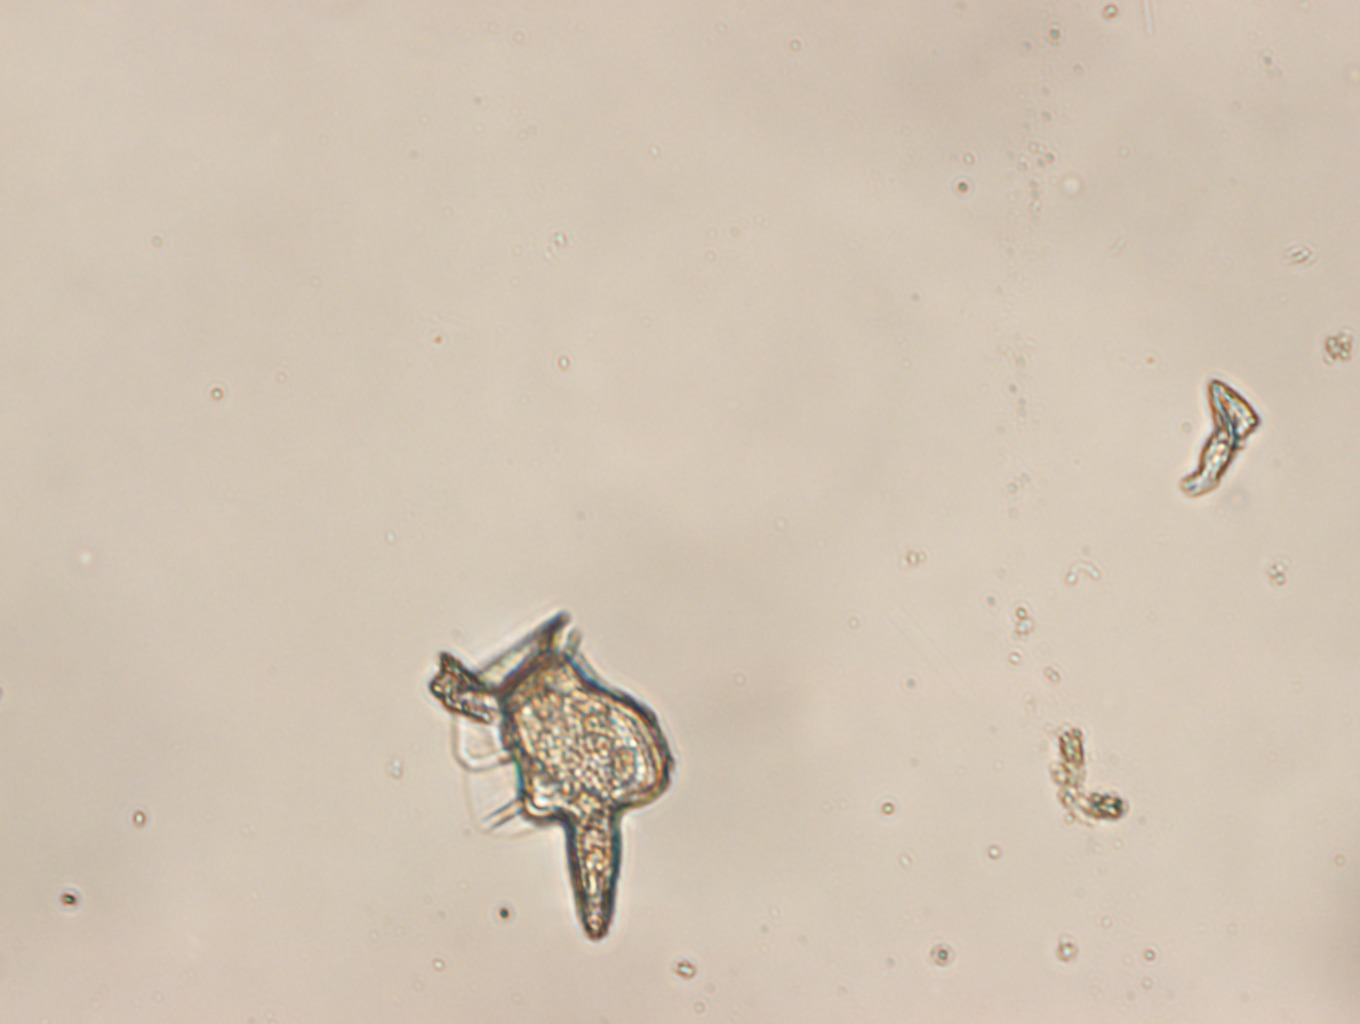dinophysis caudata: (450, 607, 677, 944)
